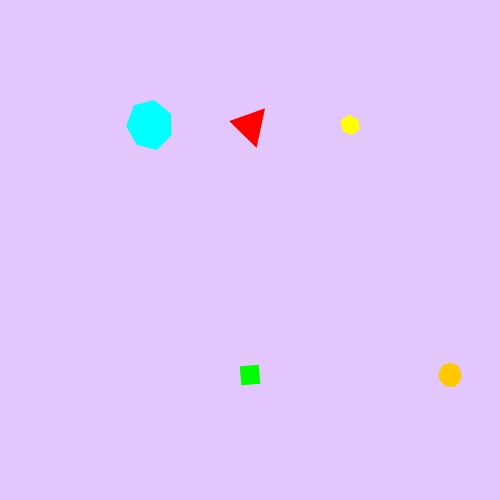heptagon: (122, 99, 178, 152)
hexagon: (335, 112, 365, 138)
nonagon: (434, 359, 467, 391)
quadrilateral: (233, 358, 268, 393)
triangle: (229, 103, 271, 147)
